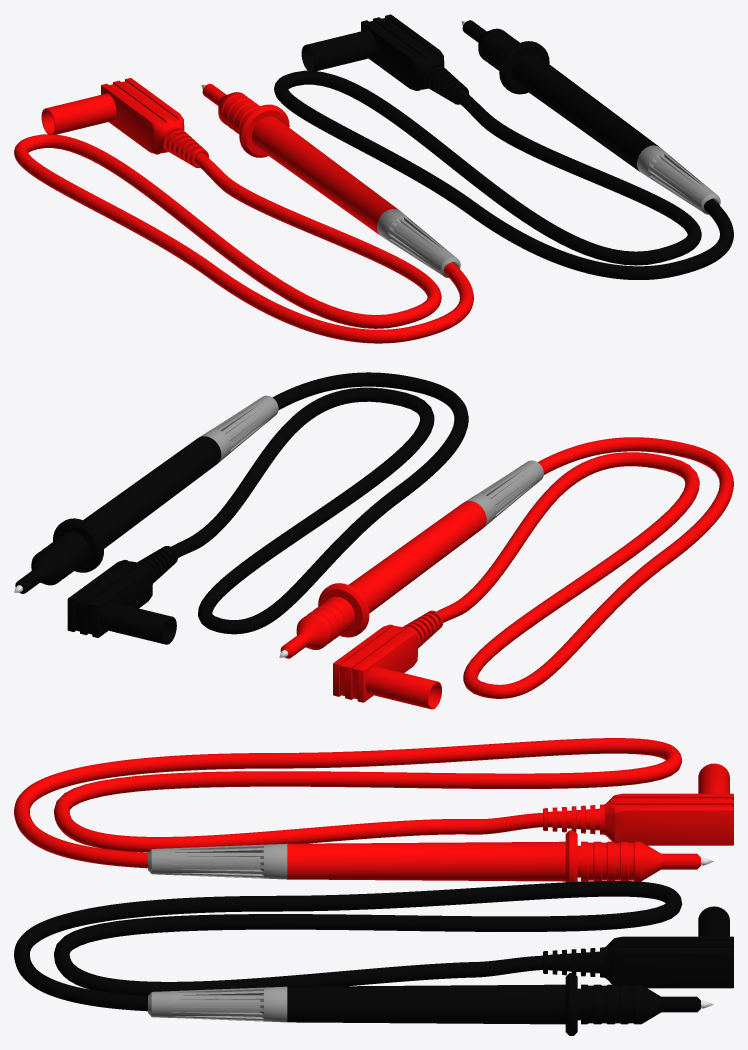
Rendered from cc0_safety_banana_plug_cable_with_test_probe.glb.
3 renders of one model, top to bottom at view 1: azimuth 30°, elevation 25°; view 2: azimuth 150°, elevation 25°; view 3: azimuth 270°, elevation 25°, orthographic. The views are drawn at different scales.
Visible parts, largest first — view 1: Cable.002_15, Cable.003_7, Probe_9, Probe.001_1, Banana.001_5, Banana_13; view 2: Cable.002_15, Cable.003_7, Probe.001_1, Probe_9, Banana.001_5, Banana_13; view 3: Cable.002_15, Cable.003_7, Probe.001_1, Probe_9, Banana.001_5, Banana_13.
Part boxes in pixels (<box>): Cable.002_15: <box>14,134,473,343</box>; Cable.003_7: <box>274,70,733,279</box>; Probe_9: <box>202,84,460,277</box>; Probe.001_1: <box>462,20,720,214</box>; Banana.001_5: <box>301,14,468,104</box>; Banana_13: <box>41,78,208,168</box>; Cable.002_15: <box>437,437,733,698</box>; Cable.003_7: <box>171,372,468,634</box>; Probe.001_1: <box>15,395,278,593</box>; Probe_9: <box>280,460,543,658</box>; Banana.001_5: <box>67,546,177,644</box>; Banana_13: <box>333,610,443,709</box>; Cable.002_15: <box>14,738,682,868</box>; Cable.003_7: <box>14,881,682,1011</box>; Probe.001_1: <box>148,973,700,1035</box>; Probe_9: <box>148,830,700,882</box>; Banana.001_5: <box>543,906,733,988</box>; Banana_13: <box>543,763,733,845</box>.
Size of what is drawn, in the model's own units: 0.1638 by 0.0158 by 0.181.
